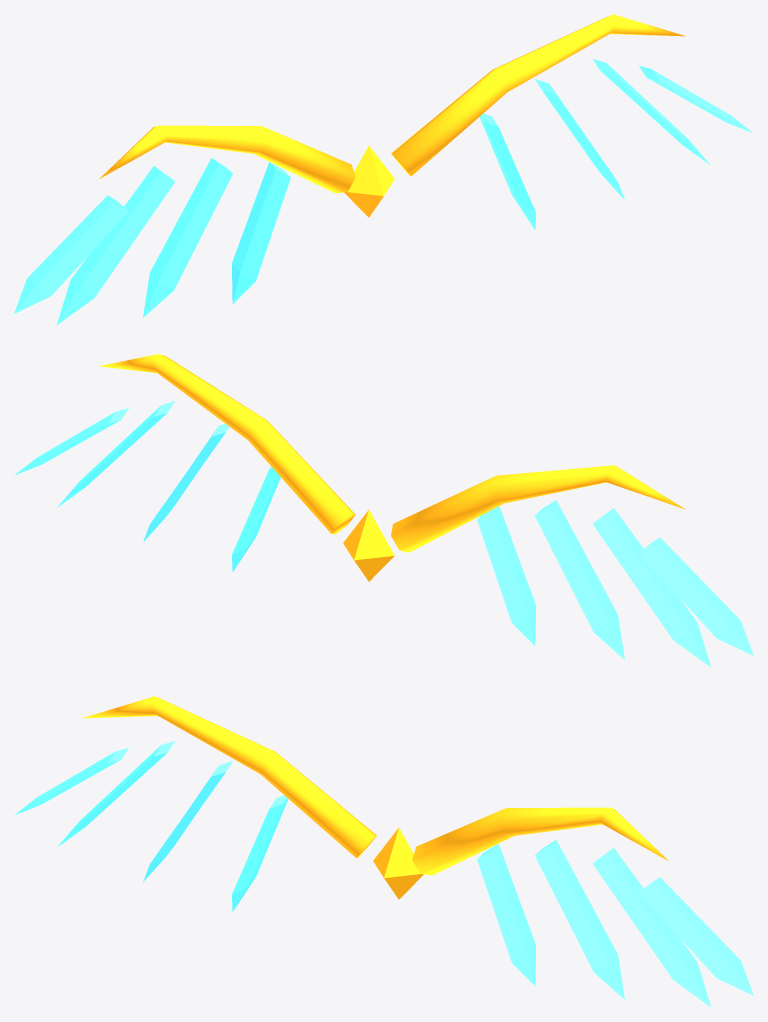
The model's file is wings_aether.glb.
3 renders of one model, top to bottom at view 1: azimuth 30°, elevation 25°; view 2: azimuth 150°, elevation 25°; view 3: azimuth 330°, elevation 25°, orthographic.
Parts seen in each view (by area): view 1: RightWingArch, LeftWingArch, LeftFeather_2, LeftFeather_1, LeftFeather_3, LeftFeather_0, BackMountGem, RightFeather_0, RightFeather_1, RightFeather_2, RightFeather_3; view 2: RightWingArch, LeftWingArch, LeftFeather_2, LeftFeather_1, LeftFeather_3, LeftFeather_0, BackMountGem, RightFeather_0, RightFeather_2, RightFeather_1, RightFeather_3; view 3: LeftWingArch, RightWingArch, RightFeather_2, RightFeather_1, RightFeather_3, RightFeather_0, BackMountGem, LeftFeather_0, LeftFeather_2, LeftFeather_1, LeftFeather_3.
Boxes of the visible parts, box(x1,y1,x2,y2) form: RightWingArch: box(391, 14, 685, 176); LeftWingArch: box(98, 125, 355, 193); LeftFeather_2: box(56, 166, 175, 325); LeftFeather_1: box(143, 158, 232, 317); LeftFeather_3: box(14, 195, 128, 313); LeftFeather_0: box(232, 162, 290, 303); BackMountGem: box(344, 146, 394, 217); RightFeather_0: box(479, 113, 535, 229); RightFeather_1: box(535, 79, 624, 199); RightFeather_2: box(593, 59, 710, 165); RightFeather_3: box(639, 65, 753, 133); RightWingArch: box(99, 354, 355, 534); LeftWingArch: box(391, 465, 685, 552); LeftFeather_2: box(592, 508, 710, 667); LeftFeather_1: box(535, 500, 624, 659); LeftFeather_3: box(639, 537, 753, 655); LeftFeather_0: box(477, 506, 535, 645); BackMountGem: box(343, 510, 394, 581); RightFeather_0: box(232, 466, 280, 571); RightFeather_2: box(57, 401, 175, 507); RightFeather_1: box(143, 423, 229, 541); RightFeather_3: box(14, 408, 128, 475); LeftWingArch: box(82, 696, 376, 858); RightWingArch: box(412, 807, 669, 875); RightFeather_2: box(592, 848, 711, 1007); RightFeather_1: box(535, 840, 624, 999); RightFeather_3: box(639, 877, 753, 995); RightFeather_0: box(477, 844, 535, 985); BackMountGem: box(373, 828, 423, 899); LeftFeather_0: box(232, 795, 288, 911); LeftFeather_2: box(57, 741, 174, 847); LeftFeather_1: box(143, 761, 232, 881); LeftFeather_3: box(14, 747, 128, 815).
Bounding box in the file's own units: 2.56 × 0.6583 × 0.2528.
